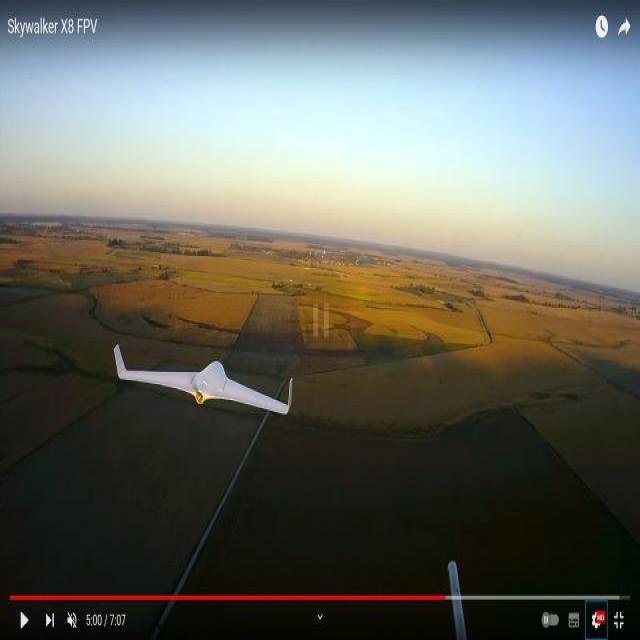iha: (103, 314, 325, 442)
